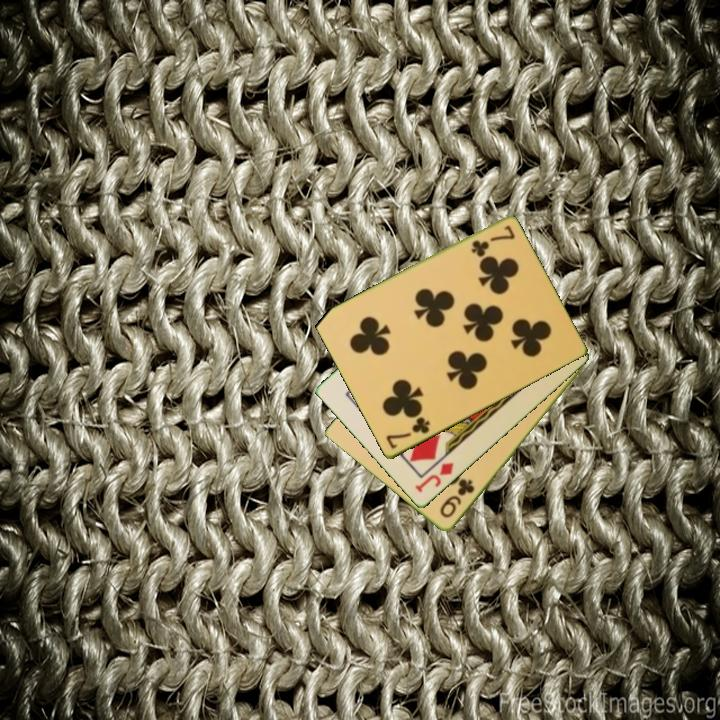7c: (382, 413, 433, 452), (468, 222, 517, 259)
9c: (436, 476, 477, 521)
Jd: (411, 459, 457, 496)
